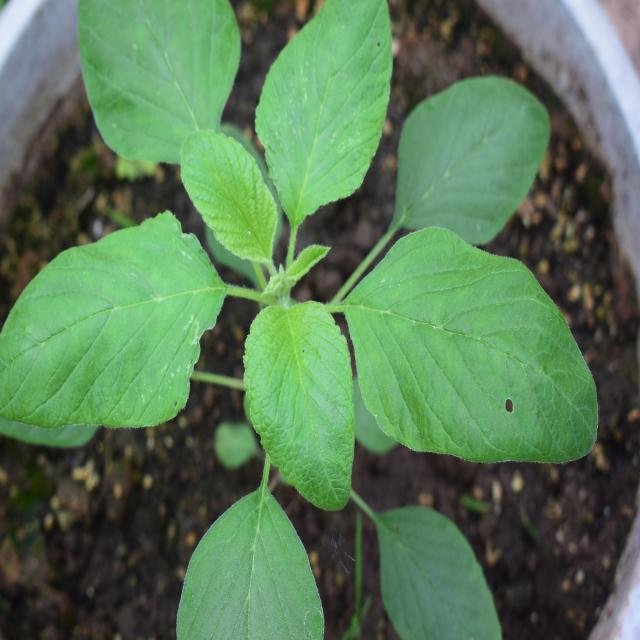pigweed: (20, 0, 583, 569)
